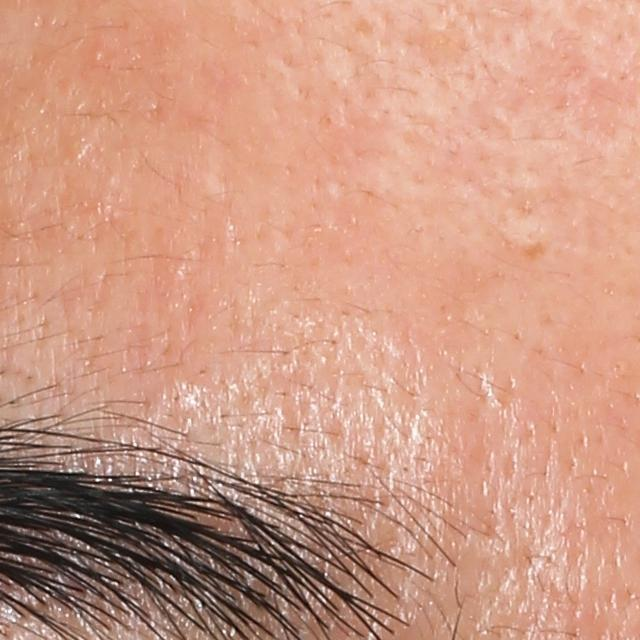comedo: (89, 46, 105, 67)
